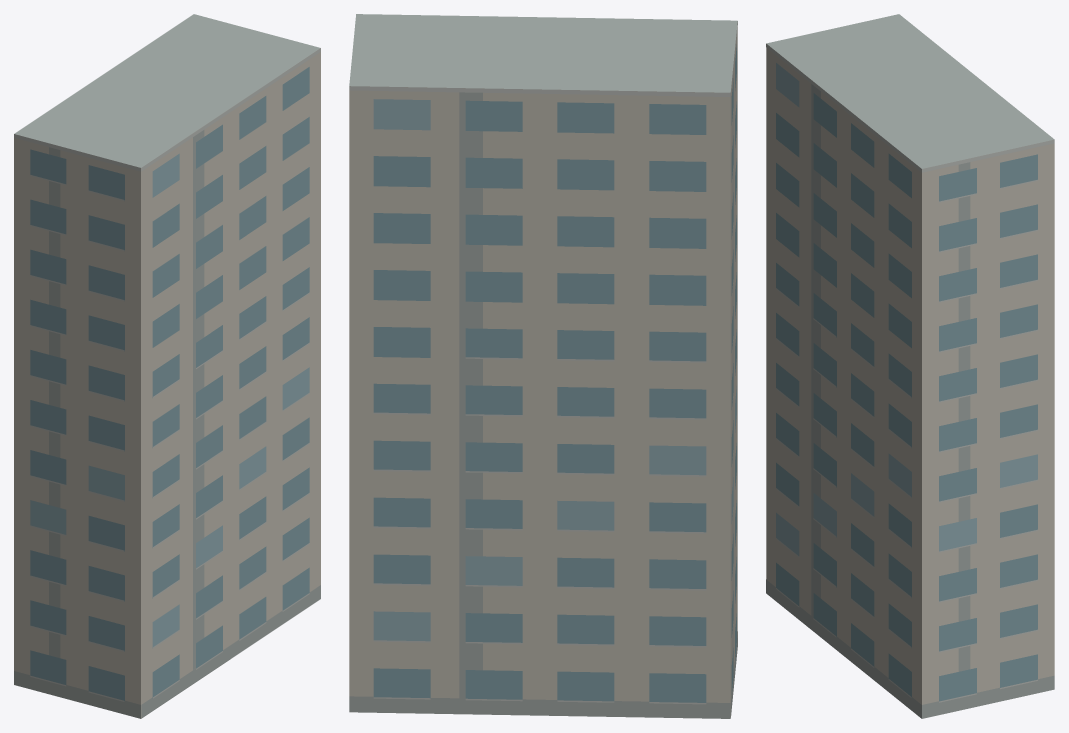
Rendered from residential-c8d3327f-c058-43f0-a1b0-e9265d1b806a.glb.
3 views of the same model, side by side, from view 1: azimuth 30°, elevation 25°; view 2: azimuth 150°, elevation 25°; view 3: azimuth 270°, elevation 25° (orthographic). The views are drawn at different scales.
Visible parts, largest first — view 1: residential-c8d3327f-c058-43f0-a1b0-e9265d1b806a.tmp; view 2: residential-c8d3327f-c058-43f0-a1b0-e9265d1b806a.tmp; view 3: residential-c8d3327f-c058-43f0-a1b0-e9265d1b806a.tmp.
Part boxes in pixels (x1,y1,x2,y2): residential-c8d3327f-c058-43f0-a1b0-e9265d1b806a.tmp: (14, 14, 320, 718); residential-c8d3327f-c058-43f0-a1b0-e9265d1b806a.tmp: (349, 14, 737, 718); residential-c8d3327f-c058-43f0-a1b0-e9265d1b806a.tmp: (766, 14, 1054, 718).
Size of the model in its own units: 21.16 by 35 by 16.65.
